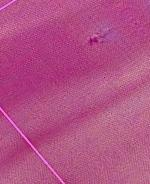knot: (87, 30, 110, 46)
